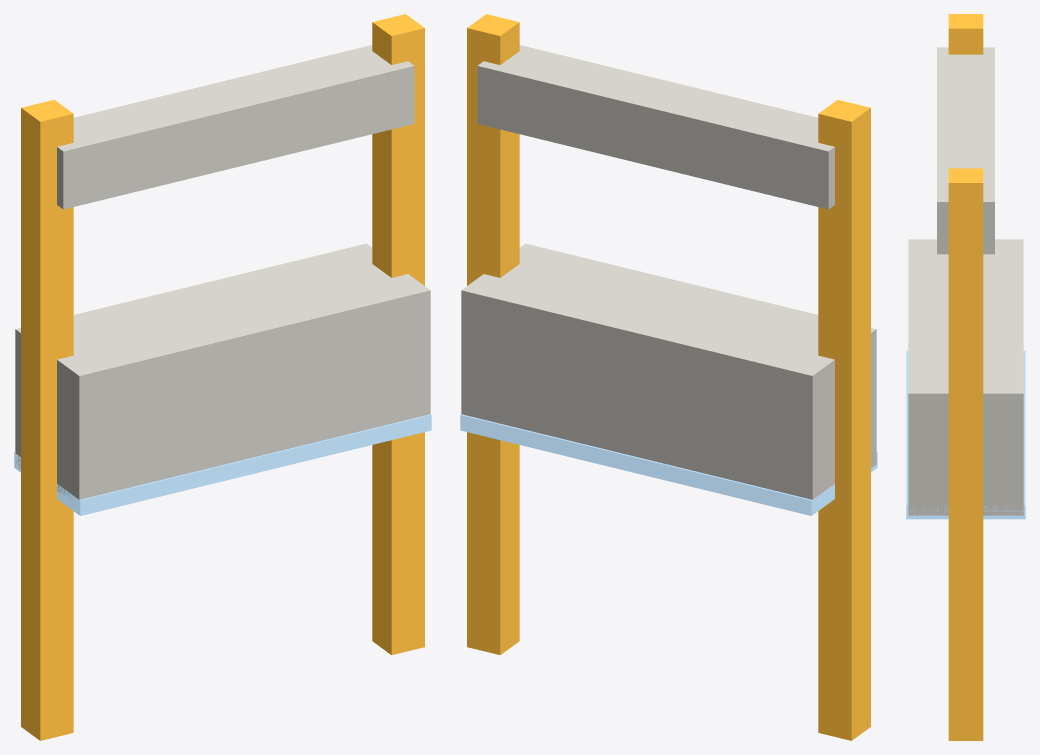
The model's file is slide-beam.glb.
3 renders of one model, left to right at view 1: azimuth 30°, elevation 25°; view 2: azimuth 150°, elevation 25°; view 3: azimuth 270°, elevation 25°, orthographic. The views are drawn at different scales.
Parts seen in each view (by area): view 1: stairway slide-beam; view 2: stairway slide-beam; view 3: stairway slide-beam.
Boxes of the visible parts, x1,y1,x2,y2 form: stairway slide-beam: (14, 14, 431, 740); stairway slide-beam: (460, 14, 877, 740); stairway slide-beam: (906, 14, 1025, 740).
Bounding box in the file's own units: 2.08 × 3.2 × 0.62.
